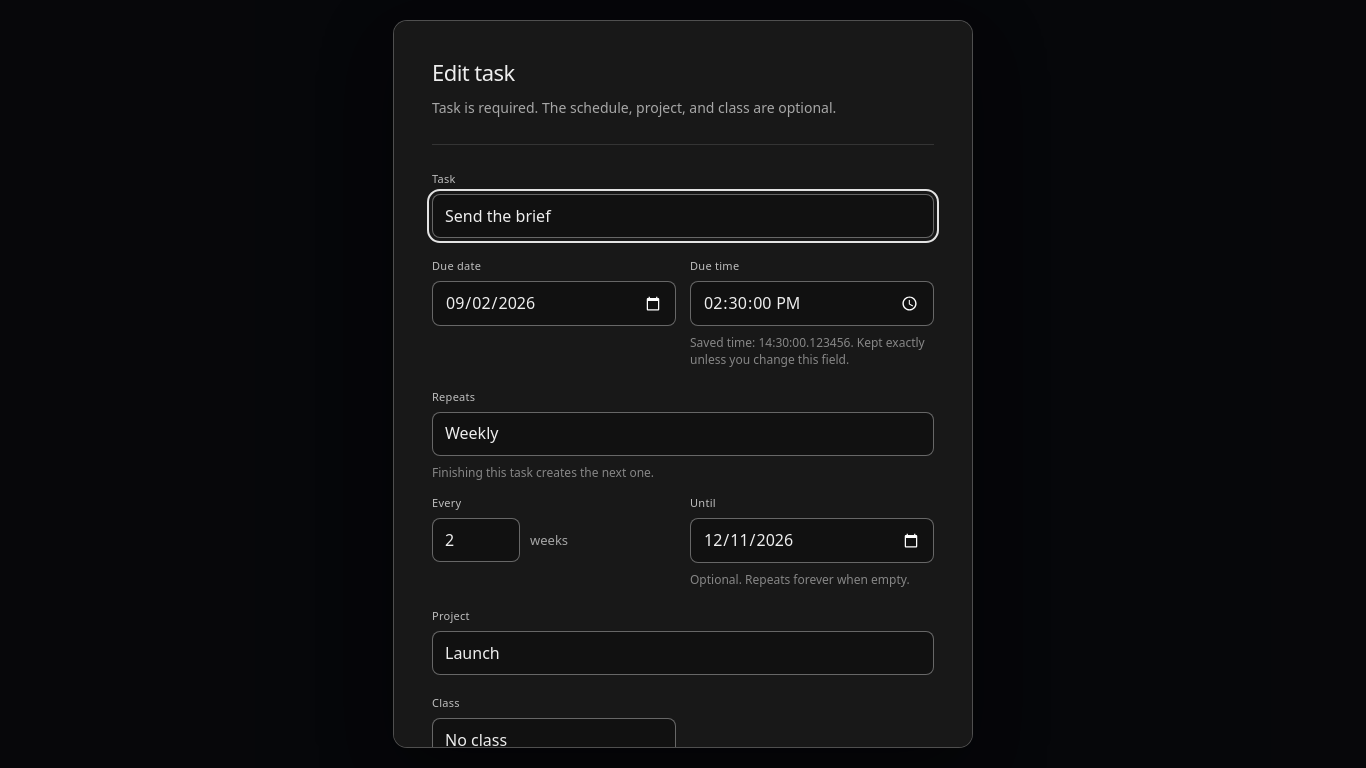
Scenario: TodoFormDialog repeat rule › clears the rule when the frequency or the anchoring date is removed
Later steps or results of the test are not shown.
Select "Doesn’t repeat" in the dropdown labelled "Repeats". click: (683, 434)
box: top-left (432, 412), bottom-right (934, 456)
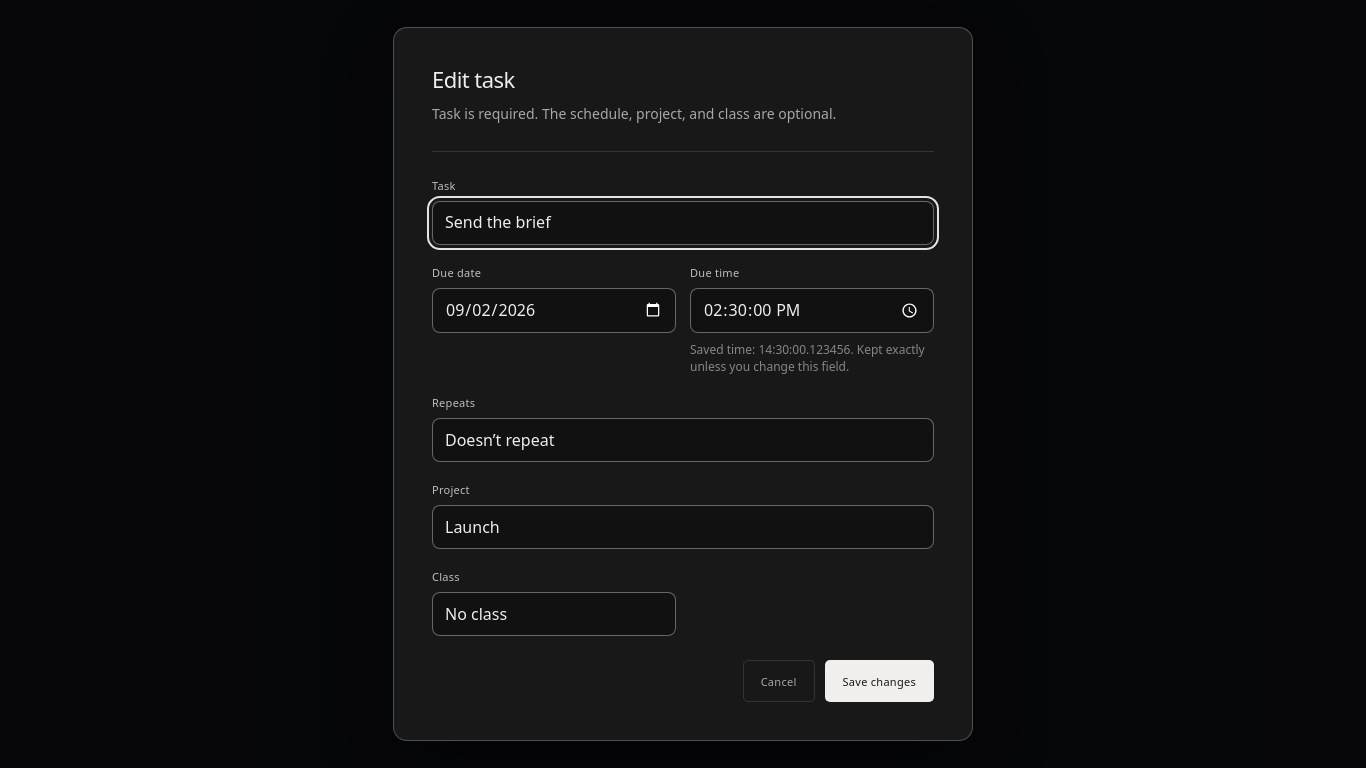
Expected: the label labelled "Until" is gone
